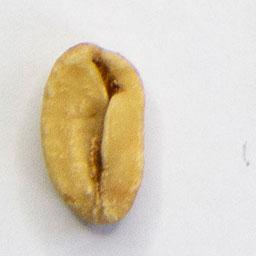defect: (37, 38, 147, 229)
